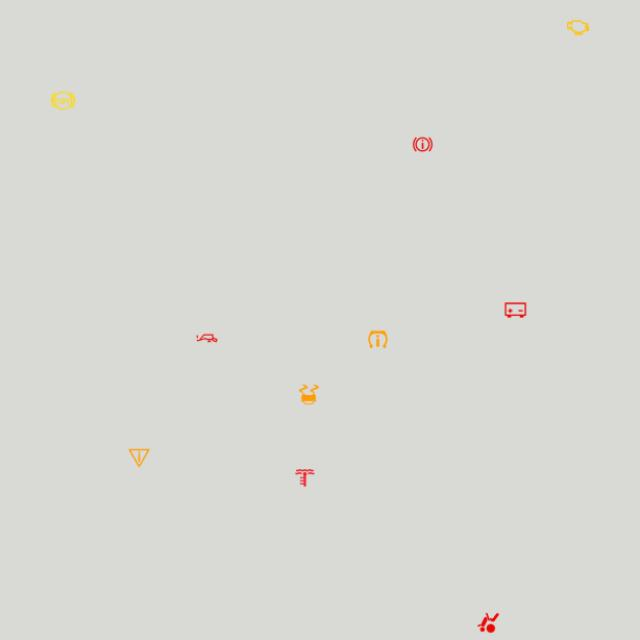Anti Lock Braking System: (50, 88, 76, 114)
Braking System Issue: (410, 132, 436, 158)
Charging System Issue: (502, 297, 528, 323)
Check Engine: (565, 14, 591, 40)
Electronic Stability Problem -ESP-: (296, 382, 322, 408)
Engine Overheating Warning Light: (292, 465, 318, 491)
Low Engine Oil Warning Light: (194, 325, 220, 351)
Low Tire Pressure Warning Light: (365, 327, 391, 352)
Master warning light: (126, 445, 152, 471)
SRS-Airbag: (476, 610, 502, 636)
